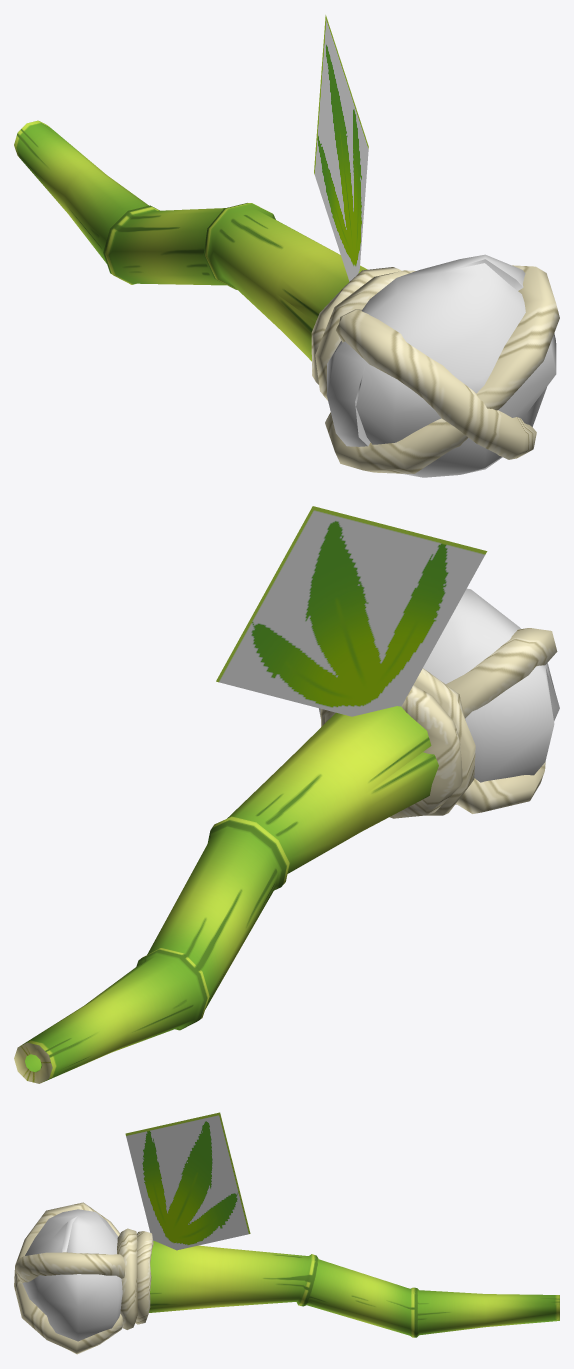
The model's file is Lever.fbx.
3 renders of one model, top to bottom at view 1: azimuth 30°, elevation 25°; view 2: azimuth 150°, elevation 25°; view 3: azimuth 270°, elevation 25°, orthographic. The views are drawn at different scales.
Parts seen in each view (by area): view 1: Rock, Shaft; view 2: Shaft, Rock; view 3: Shaft, Rock.
Part boxes in pixels (x1,y1,x2,y2): Rock: (311, 254, 559, 477); Shaft: (14, 15, 368, 361); Shaft: (14, 506, 487, 1083); Rock: (319, 588, 559, 818); Shaft: (125, 1112, 559, 1337); Rock: (14, 1202, 153, 1354).
Size of the model in its own units: 27.26 by 43.12 by 93.25.
